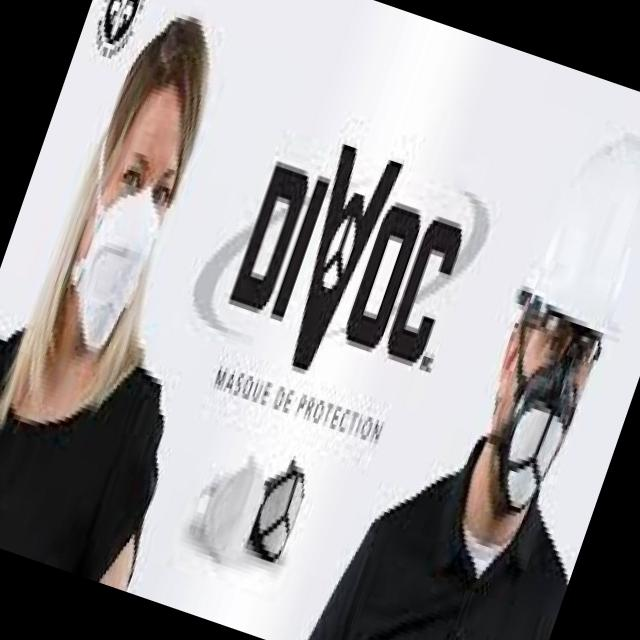hard_hat: (505, 103, 640, 351)
